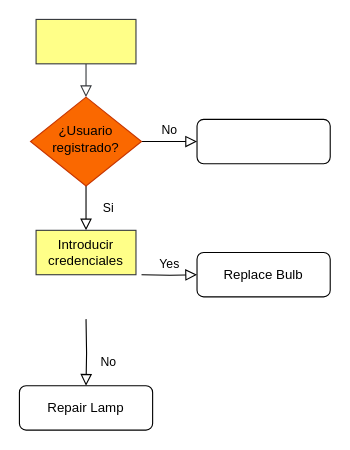
This 350x450 diagram has some shape labels left out. The box of each missing label's shape, as (x1, y1, x2, y2) in pixels:
Iniciar sesión: (35, 18, 136, 64)
Plug in lamp: (196, 118, 330, 164)
